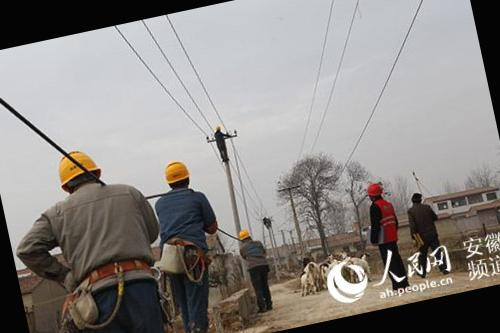no_helmet: (406, 188, 428, 208)
